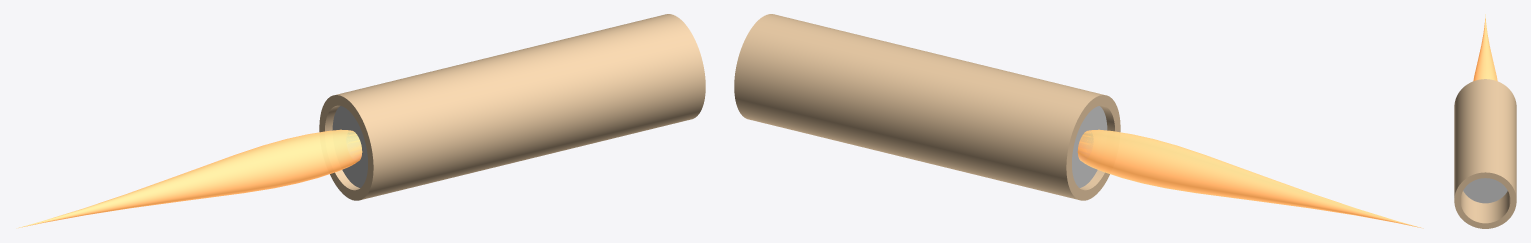
File: flame.glb
The picture shows the model from 3 angles, left to right: view 1: azimuth 30°, elevation 25°; view 2: azimuth 150°, elevation 25°; view 3: azimuth 270°, elevation 25°; orthographic projection. The views are drawn at different scales.
Visible parts, largest first — view 1: Object_5, Object_7, Object_6; view 2: Object_5, Object_7, Object_6; view 3: Object_5, Object_6, Object_7.
Boxes of the visible parts, left/top/right/bottom form: Object_5: left=319, top=14, right=705, bottom=200; Object_7: left=16, top=129, right=362, bottom=228; Object_6: left=332, top=106, right=367, bottom=187; Object_5: left=734, top=14, right=1120, bottom=200; Object_7: left=1077, top=129, right=1423, bottom=228; Object_6: left=1072, top=106, right=1107, bottom=187; Object_5: left=1454, top=79, right=1516, bottom=228; Object_6: left=1463, top=178, right=1507, bottom=203; Object_7: left=1473, top=14, right=1497, bottom=81.
Bounding box in the file's own units: 0.17 × 0.024 × 0.024.
